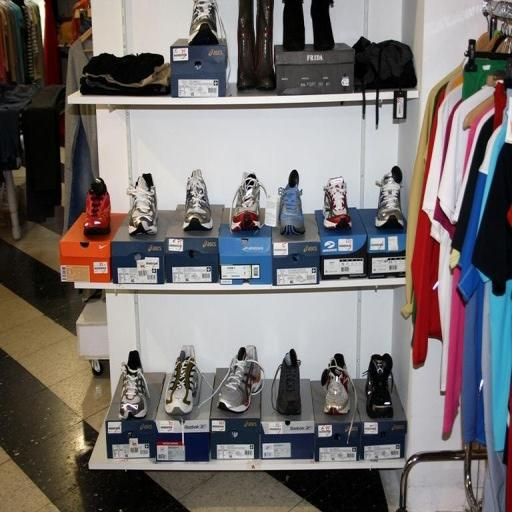boots: (237, 0, 275, 90), (256, 0, 276, 90)
shoe: (217, 345, 263, 412), (165, 345, 199, 415), (230, 172, 266, 232), (119, 350, 149, 420), (272, 348, 302, 415), (128, 173, 158, 235), (182, 169, 212, 231), (366, 353, 394, 418), (321, 353, 350, 415), (375, 166, 404, 227), (279, 169, 305, 235), (83, 177, 111, 236), (323, 176, 351, 229), (188, 0, 218, 45)
